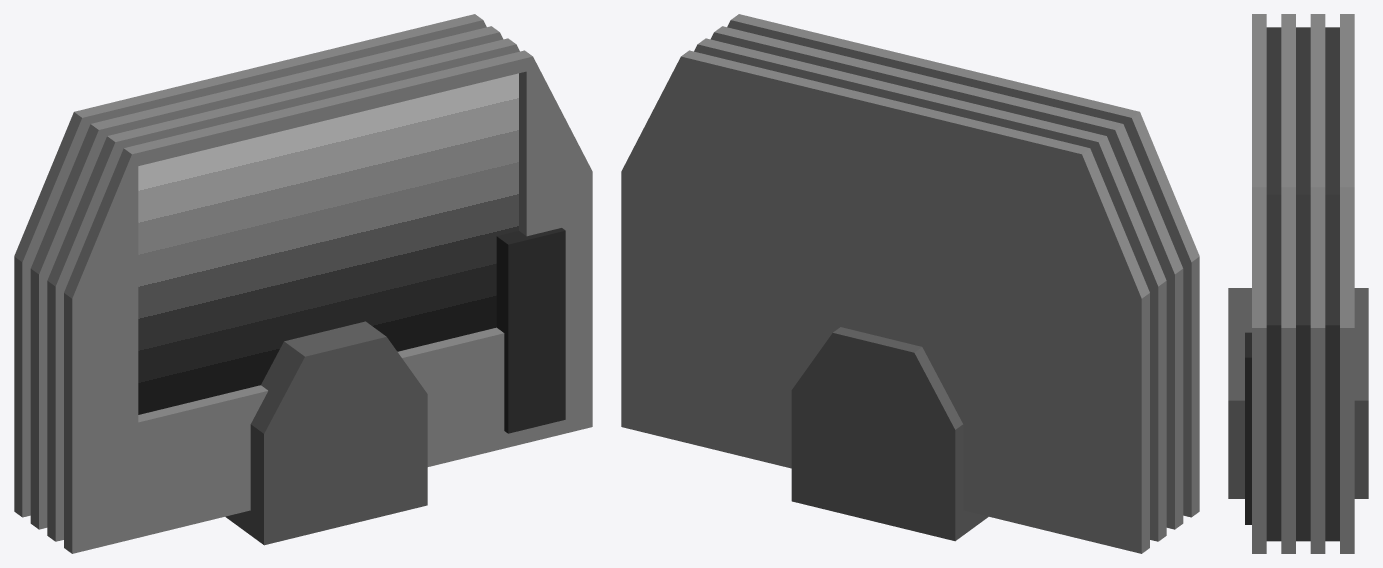
File: monitor_D.FBX
3 views of the same model, side by side, from view 1: azimuth 30°, elevation 25°; view 2: azimuth 150°, elevation 25°; view 3: azimuth 270°, elevation 25° (orthographic). The views are drawn at different scales.
Visible parts, largest first — view 1: monitor_D, monitor_D_screen; view 2: monitor_D; view 3: monitor_D.
Part boxes in pixels (x1,y1,x2,y2): monitor_D: (14,14,592,553); monitor_D_screen: (138,73,518,414); monitor_D: (621,14,1199,553); monitor_D: (1228,14,1368,553).
Size of the model in its own units: 34.68 by 26.11 by 9.16.
